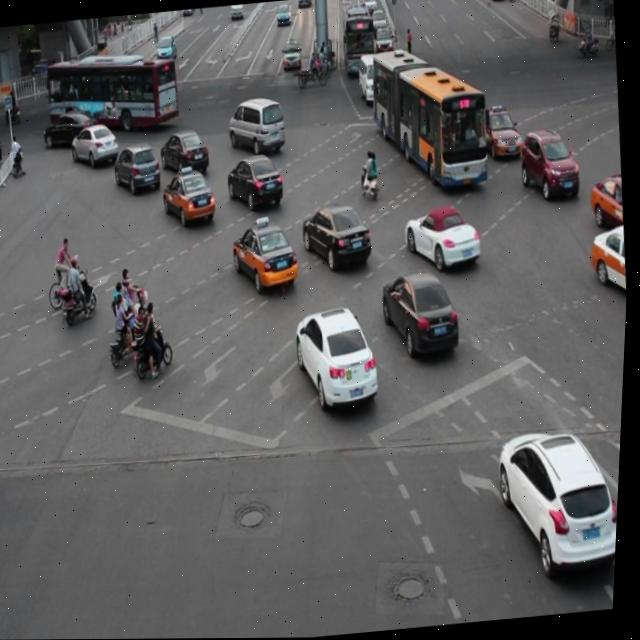car: (496, 422, 625, 572), (293, 302, 384, 410), (380, 266, 465, 359), (402, 204, 483, 272), (230, 217, 302, 293), (301, 200, 376, 272), (518, 127, 581, 202), (587, 223, 632, 311), (161, 168, 220, 228), (226, 152, 287, 210), (112, 141, 163, 196), (159, 126, 212, 176), (589, 170, 628, 237), (42, 107, 100, 151), (480, 103, 523, 160), (70, 121, 121, 169)
truck: (225, 95, 288, 156)
van: (366, 45, 493, 195), (44, 51, 182, 134)
